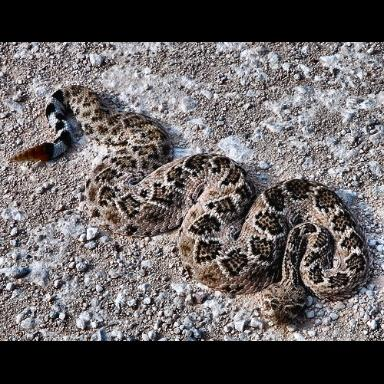snake: (49, 87, 379, 304)
